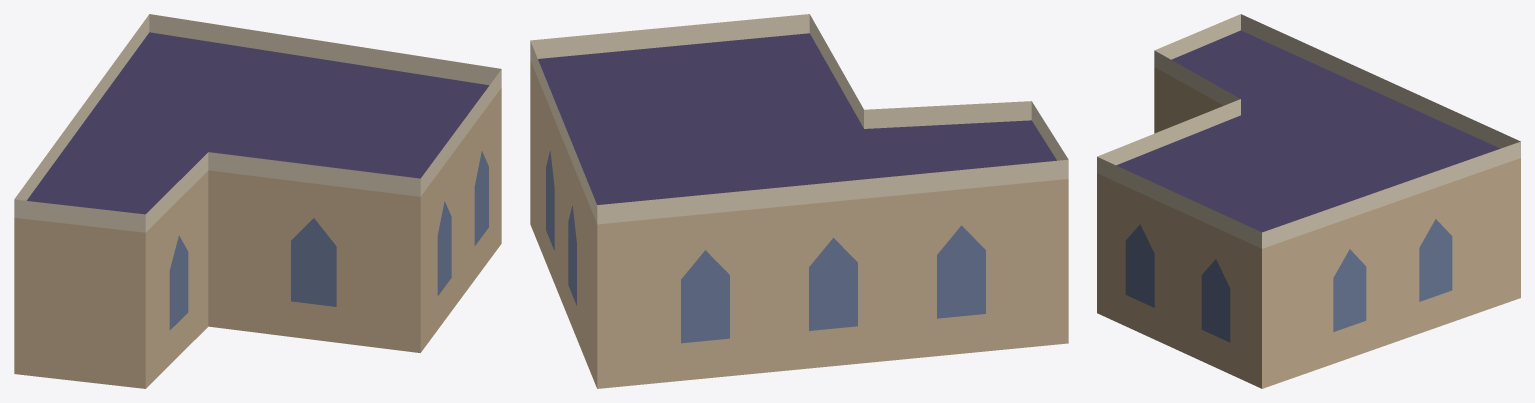
Rendered from b-004-day.glb.
3 views of the same model, side by side, from view 1: azimuth 30°, elevation 25°; view 2: azimuth 150°, elevation 25°; view 3: azimuth 270°, elevation 25° (orthographic). The views are drawn at different scales.
Parts seen in each view (by area): view 1: campus/b-004-day-0; view 2: campus/b-004-day-0; view 3: campus/b-004-day-0.
Part boxes in pixels (box(x1,y1,x2,y2)): campus/b-004-day-0: box(14, 14, 501, 388); campus/b-004-day-0: box(530, 14, 1068, 388); campus/b-004-day-0: box(1097, 14, 1520, 388).
Size of the model in its own units: 15.72 by 5.25 by 12.89.
